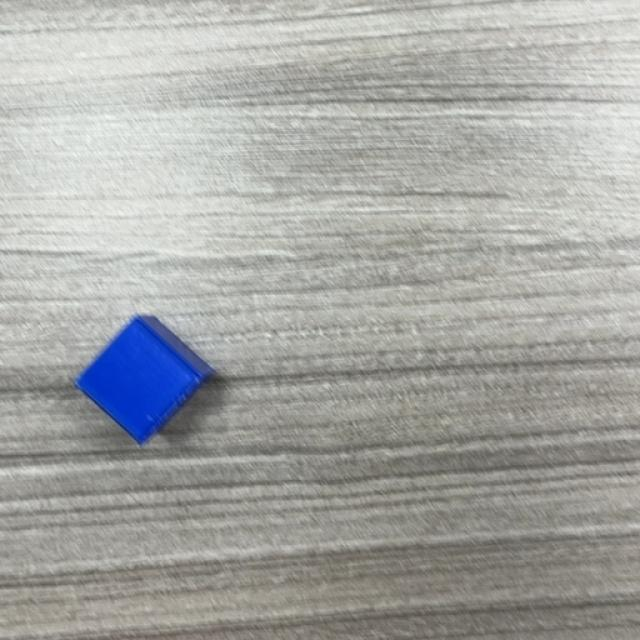Azul: (75, 315, 216, 446)
